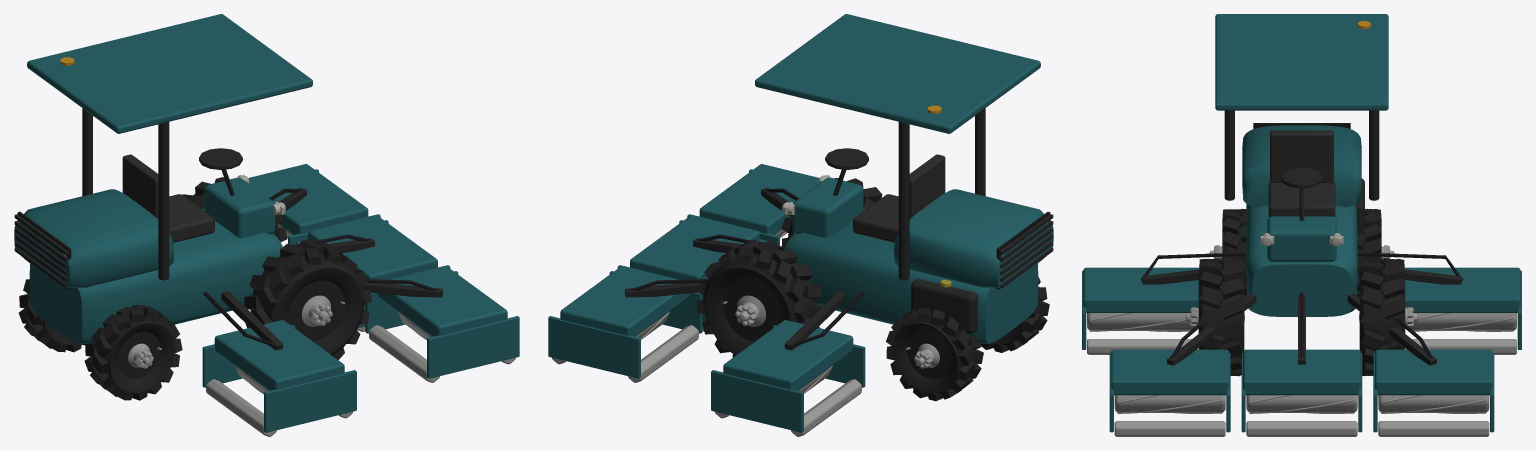
File: SM_Prop_farm_mower_0.glb
3 views of the same model, side by side, from view 1: azimuth 30°, elevation 25°; view 2: azimuth 150°, elevation 25°; view 3: azimuth 270°, elevation 25° (orthographic). The views are drawn at different scales.
Visible parts, largest first — view 1: SM_Prop_farm_mower_0; view 2: SM_Prop_farm_mower_0; view 3: SM_Prop_farm_mower_0.
Boxes of the visible parts, box(x1,y1,x2,y2) form: SM_Prop_farm_mower_0: box(14, 14, 519, 436); SM_Prop_farm_mower_0: box(548, 14, 1053, 436); SM_Prop_farm_mower_0: box(1082, 14, 1521, 436).
Bounding box in the file's own units: 2.98 × 2.16 × 3.17.
